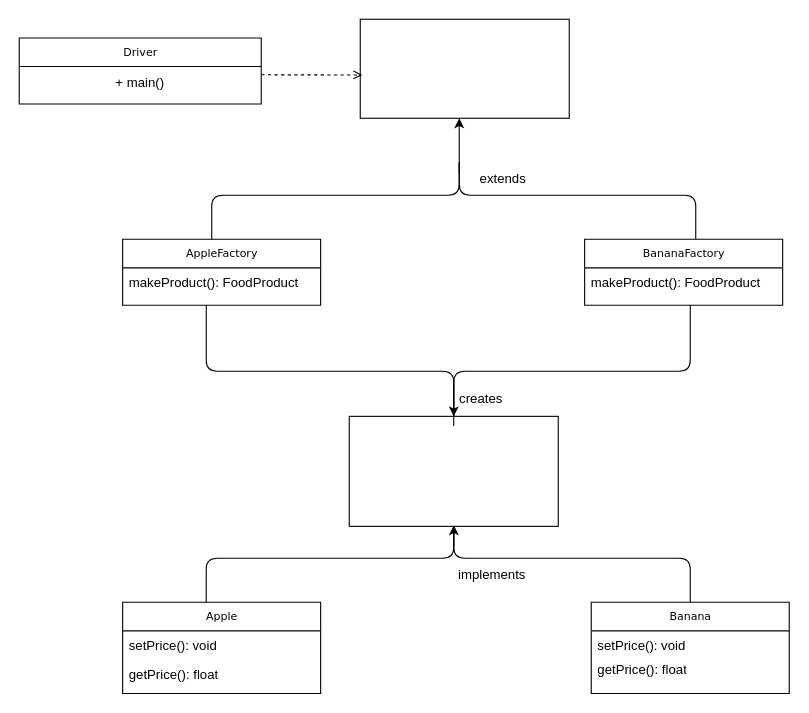
This 809x713 diagram has some shape labels left out. Each missing label, with the centre of its shape:
"<<Interface>> GroceryProduct setPrice(): void getPrice(): float" belongs at (453,470).
"<<Interface>> GroceryProductFactory + makeProduct(): FoodProduct" belongs at (464,68).
